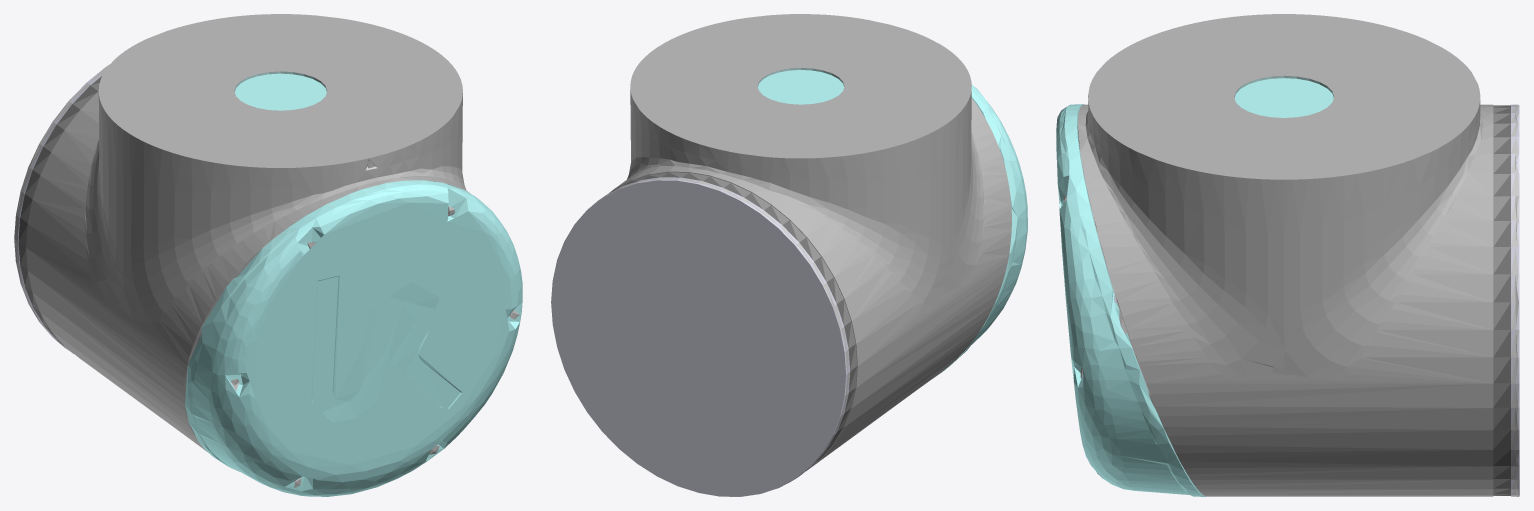
The model's file is LinearUR10Link2.dae.
3 views of the same model, side by side, from view 1: azimuth 30°, elevation 25°; view 2: azimuth 150°, elevation 25°; view 3: azimuth 270°, elevation 25° (orthographic). The views are drawn at different scales.
Visible parts, largest first — view 1: LinearUR10Link2; view 2: LinearUR10Link2; view 3: LinearUR10Link2.
Part boxes in pixels (<box>): LinearUR10Link2: <box>14,14,522,496</box>; LinearUR10Link2: <box>551,14,1027,496</box>; LinearUR10Link2: <box>1056,14,1519,496</box>.
Size of the model in its own units: 0.1501 by 0.1771 by 0.1612.
